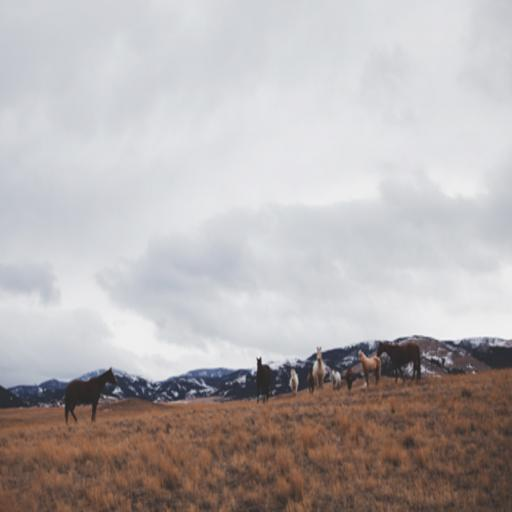Horse: (64, 363, 116, 426), (375, 337, 423, 386), (356, 347, 383, 386), (253, 356, 273, 404), (311, 343, 327, 390), (341, 366, 366, 390), (288, 368, 300, 394), (327, 368, 341, 390), (308, 370, 316, 390)
